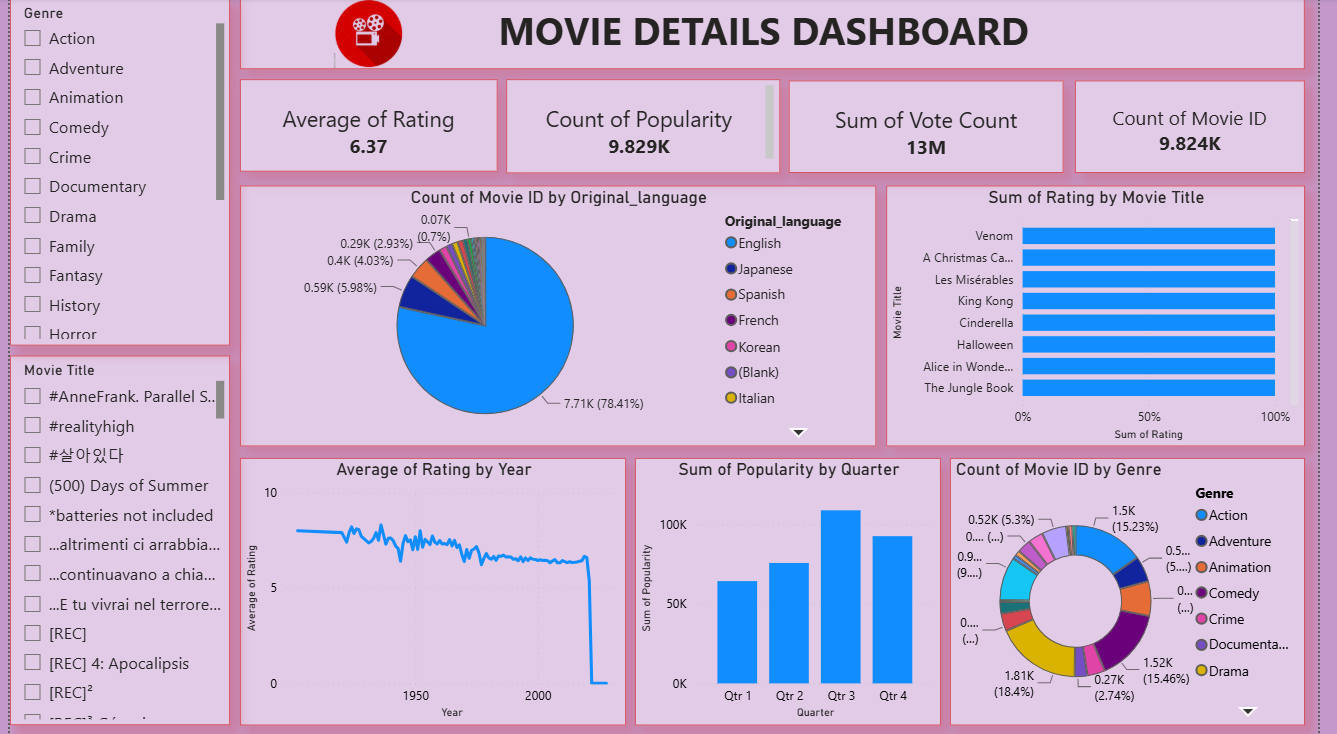

This screenshot's page, from the dashboard's own definition file:
{"tool":"powerbi","page":{"name":"Page 3","canvas":[1280,720],"ordinal":2},"visuals":[{"type":"textbox","box":[225,0,1041.9,69.7],"z":0},{"type":"pieChart","fields":{"Y":["CountNonNull(Movie_Details.Movie ID)"],"Category":["Movie_Details.Original_language"]},"box":[225,183.4,622.4,255.6],"z":1000},{"type":"hundredPercentStackedBarChart","fields":{"Category":["Movie_Details.Movie Title"],"Y":["Sum(Movie_Details.Rating)"]},"box":[857.2,183.4,409.6,255.6],"z":2000},{"type":"lineChart","fields":{"Y":["Avg(Movie_Details.Rating)"],"Category":["Movie_Details.Release Date.Variation.Date Hierarchy.Year"]},"box":[225,450,377.9,261.7],"z":3000},{"type":"clusteredColumnChart","fields":{"Y":["Sum(Movie_Details.Popularity)"],"Category":["Movie_Details.Release Date.Variation.Date Hierarchy.Quarter"]},"box":[611.4,450,299.6,261.7],"z":4000},{"type":"donutChart","fields":{"Series":["Movie_Details.Genre"],"Y":["CountNonNull(Movie_Details.Movie ID)"]},"box":[919.6,450,347.3,261.7],"z":5000},{"type":"slicer","fields":{"Values":["Movie_Details.Movie Title"]},"box":[0,349.7,215.2,362],"z":6000},{"type":"slicer","fields":{"Values":["Movie_Details.Genre"]},"box":[0,0,215.2,339.9],"z":7000},{"type":"textbox","box":[225,79.5,251.9,90.5],"z":8000},{"type":"textbox","box":[485.5,79.5,267.8,91.7],"z":9000},{"type":"textbox","box":[761.8,80.7,269,90.5],"z":10000},{"type":"textbox","box":[1041.9,80.7,225,90.5],"z":11000},{"type":"image","box":[225,0,251.9,69.7],"z":12000}]}

Visuals, with their boxes in screenshot pixels (x1, y1, x2, y2), scaled from the page's 1280x720 canvas onto the 1337x734 screenshot:
textbox: <region>235, 0, 1323, 71</region>
pieChart - CountNonNull(Movie_Details.Movie ID) x Movie_Details.Original_language: <region>235, 187, 885, 448</region>
hundredPercentStackedBarChart - Movie_Details.Movie Title x Sum(Movie_Details.Rating): <region>895, 187, 1323, 448</region>
lineChart - Avg(Movie_Details.Rating) x Movie_Details.Release Date.Variation.Date Hierarchy.Year: <region>235, 459, 630, 726</region>
clusteredColumnChart - Sum(Movie_Details.Popularity) x Movie_Details.Release Date.Variation.Date Hierarchy.Quarter: <region>639, 459, 952, 726</region>
donutChart - Movie_Details.Genre x CountNonNull(Movie_Details.Movie ID): <region>961, 459, 1323, 726</region>
slicer - Movie_Details.Movie Title: <region>0, 356, 225, 726</region>
slicer - Movie_Details.Genre: <region>0, 0, 225, 347</region>
textbox: <region>235, 81, 498, 173</region>
textbox: <region>507, 81, 787, 175</region>
textbox: <region>796, 82, 1077, 175</region>
textbox: <region>1088, 82, 1323, 175</region>
image: <region>235, 0, 498, 71</region>
